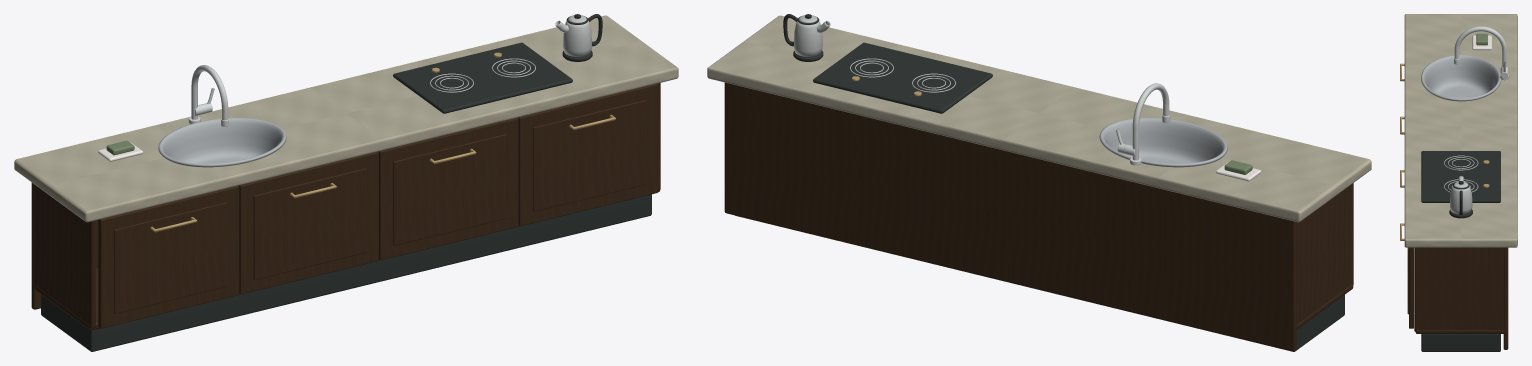
Rendered from kitchen-316.glb.
The picture shows the model from 3 angles, left to right: view 1: azimuth 30°, elevation 25°; view 2: azimuth 150°, elevation 25°; view 3: azimuth 270°, elevation 25°; orthographic projection. The views are drawn at different scales.
Parts seen in each view (by area): view 1: Merged | Smoked oak | fine vertical grain.004, Kitchen | stone counter with real sink opening, Merged | Cabinet shadow and gaskets.002, Kitchen | deep stainless sink bowl, Merged | Brushed nickel.003, Merged | Kettle | satin stainless steel, Merged | Aged champagne brass.005; view 2: Merged | Smoked oak | fine vertical grain.004, Kitchen | stone counter with real sink opening, Merged | Cabinet shadow and gaskets.002, Kitchen | deep stainless sink bowl, Merged | Brushed nickel.003, Merged | Kettle | satin stainless steel; view 3: Kitchen | stone counter with real sink opening, Merged | Smoked oak | fine vertical grain.004, Merged | Cabinet shadow and gaskets.002, Kitchen | deep stainless sink bowl, Merged | Brushed nickel.003, Merged | Kettle | satin stainless steel, Merged | Kettle | heat resistant graphite, Merged | Aged champagne brass.005, Kitchen | sponge tray, Kitchen | sponge.
Part boxes in pixels (x1,y1,x2,y2): Merged | Smoked oak | fine vertical grain.004: (31, 83, 660, 330); Kitchen | stone counter with real sink opening: (14, 15, 678, 222); Merged | Cabinet shadow and gaskets.002: (41, 42, 651, 351); Kitchen | deep stainless sink bowl: (158, 118, 286, 167); Merged | Brushed nickel.003: (188, 58, 535, 126); Merged | Kettle | satin stainless steel: (555, 15, 591, 56); Merged | Aged champagne brass.005: (150, 52, 615, 232); Merged | Smoked oak | fine vertical grain.004: (724, 82, 1353, 351); Kitchen | stone counter with real sink opening: (707, 15, 1371, 222); Merged | Cabinet shadow and gaskets.002: (735, 42, 1344, 351); Kitchen | deep stainless sink bowl: (1099, 118, 1227, 167); Merged | Brushed nickel.003: (850, 58, 1170, 165); Merged | Kettle | satin stainless steel: (794, 15, 830, 56); Kitchen | stone counter with real sink opening: (1404, 14, 1517, 247); Merged | Smoked oak | fine vertical grain.004: (1407, 247, 1508, 349); Merged | Cabinet shadow and gaskets.002: (1421, 151, 1500, 351); Kitchen | deep stainless sink bowl: (1421, 55, 1501, 101); Merged | Brushed nickel.003: (1444, 26, 1509, 192); Merged | Kettle | satin stainless steel: (1450, 176, 1472, 214); Merged | Kettle | heat resistant graphite: (1449, 181, 1472, 218); Merged | Aged champagne brass.005: (1400, 63, 1489, 240); Kitchen | sponge tray: (1472, 35, 1491, 50); Kitchen | sponge: (1476, 33, 1487, 45).
Size of the model in its own units: 3.83 by 1.35 by 0.8414.
11 materials, 2 textured.
